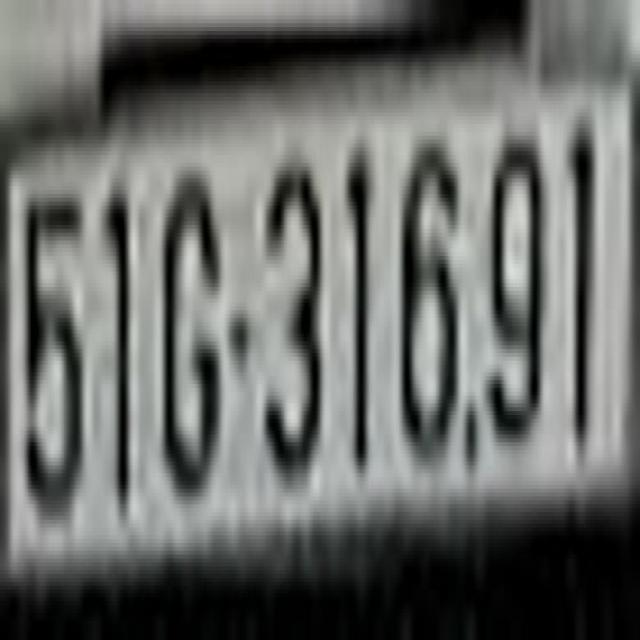1: (95, 136, 147, 539), (336, 112, 390, 496), (557, 86, 606, 462)
3: (262, 124, 323, 500)
5: (20, 144, 89, 543)
6: (396, 82, 459, 477)
9: (486, 89, 546, 473)
G: (157, 128, 220, 508)
